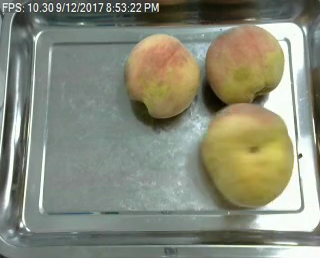Peach: (201, 103, 295, 209), (123, 32, 200, 119), (205, 23, 285, 105)
